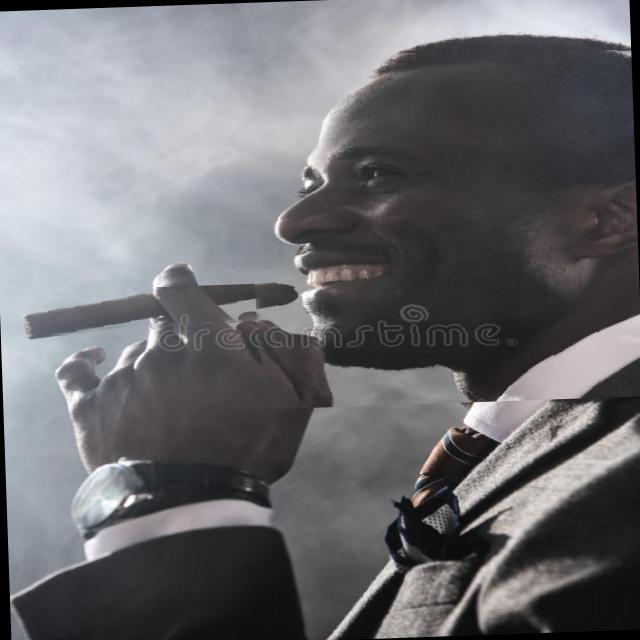cigarette: (4, 282, 298, 338)
